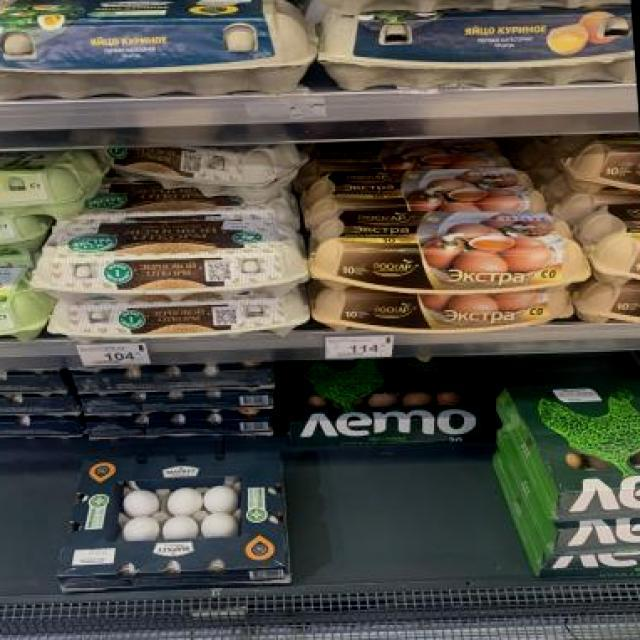egg: (0, 0, 319, 102), (317, 0, 637, 95), (310, 202, 588, 304), (27, 210, 310, 303), (298, 163, 550, 224), (44, 290, 310, 345), (316, 282, 575, 336), (300, 0, 632, 20)
